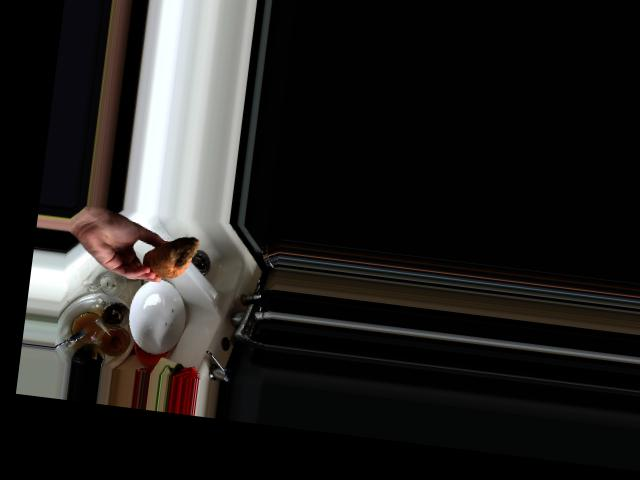sweet_potato: (141, 227, 200, 283)
